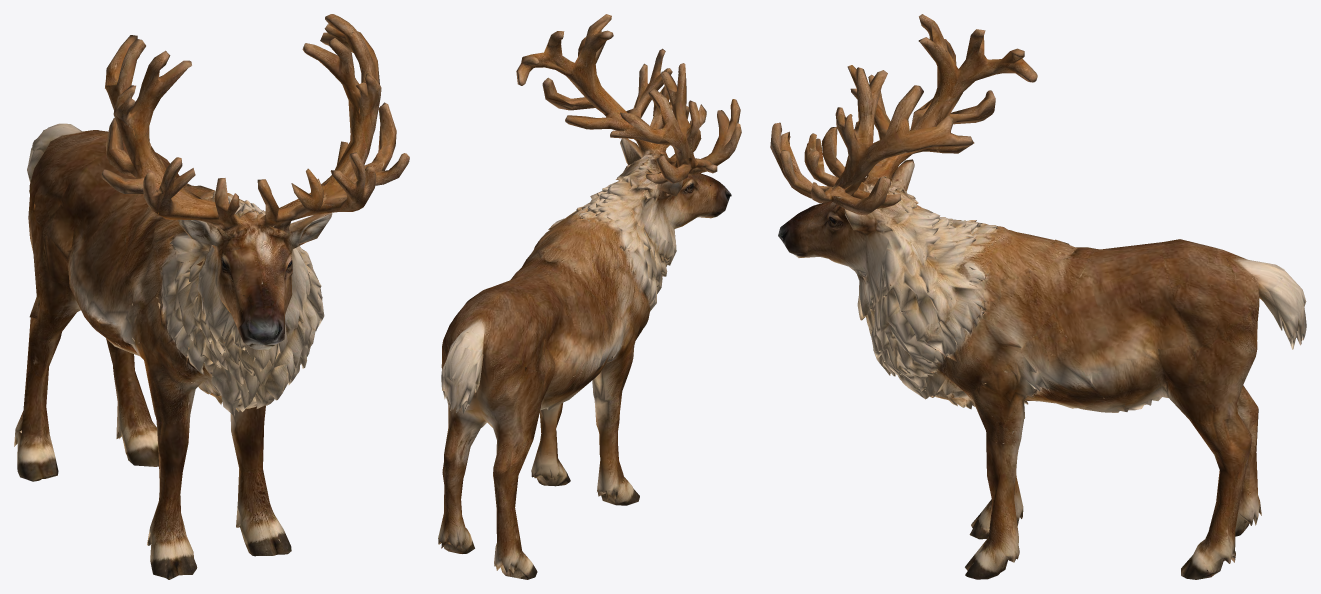
Rendered from reindeer.glb.
3 views of the same model, side by side, from view 1: azimuth 30°, elevation 25°; view 2: azimuth 150°, elevation 25°; view 3: azimuth 270°, elevation 25° (orthographic). The views are drawn at different scales.
Visible parts, largest first — view 1: reindeer; view 2: reindeer; view 3: reindeer.
Part boxes in pixels (x1,y1,x2,y2): reindeer: (14, 14, 409, 579); reindeer: (438, 14, 741, 579); reindeer: (770, 14, 1306, 579).
Size of the model in its own units: 0.8202 by 1.7 by 1.64.
Materials: 1 (1 with a texture image).
